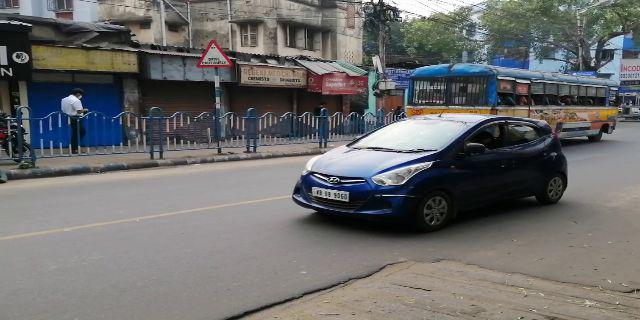Bus: (404, 68, 620, 143)
Car: (298, 111, 570, 212)
